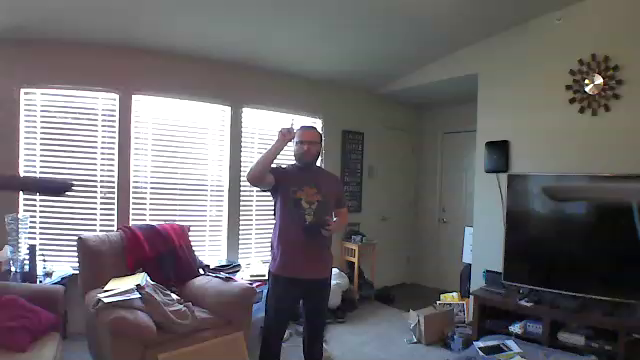up: (275, 111, 298, 149)
